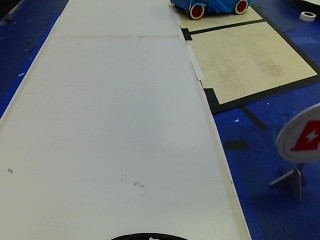battery: (276, 107, 318, 164)
car: (169, 0, 255, 20)
